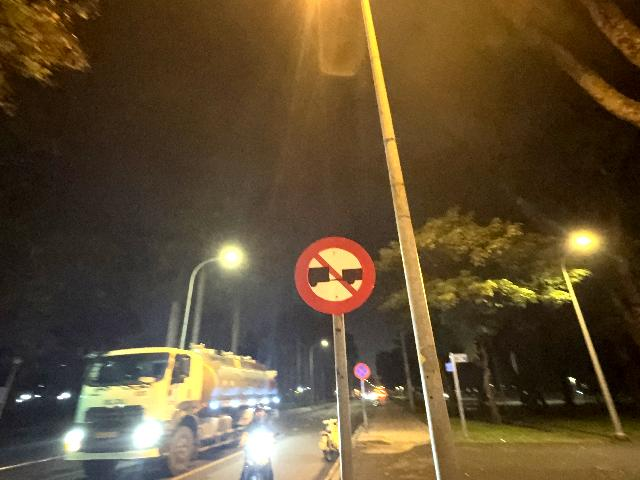cam-xe-somi-romooc: (294, 235, 376, 314)
